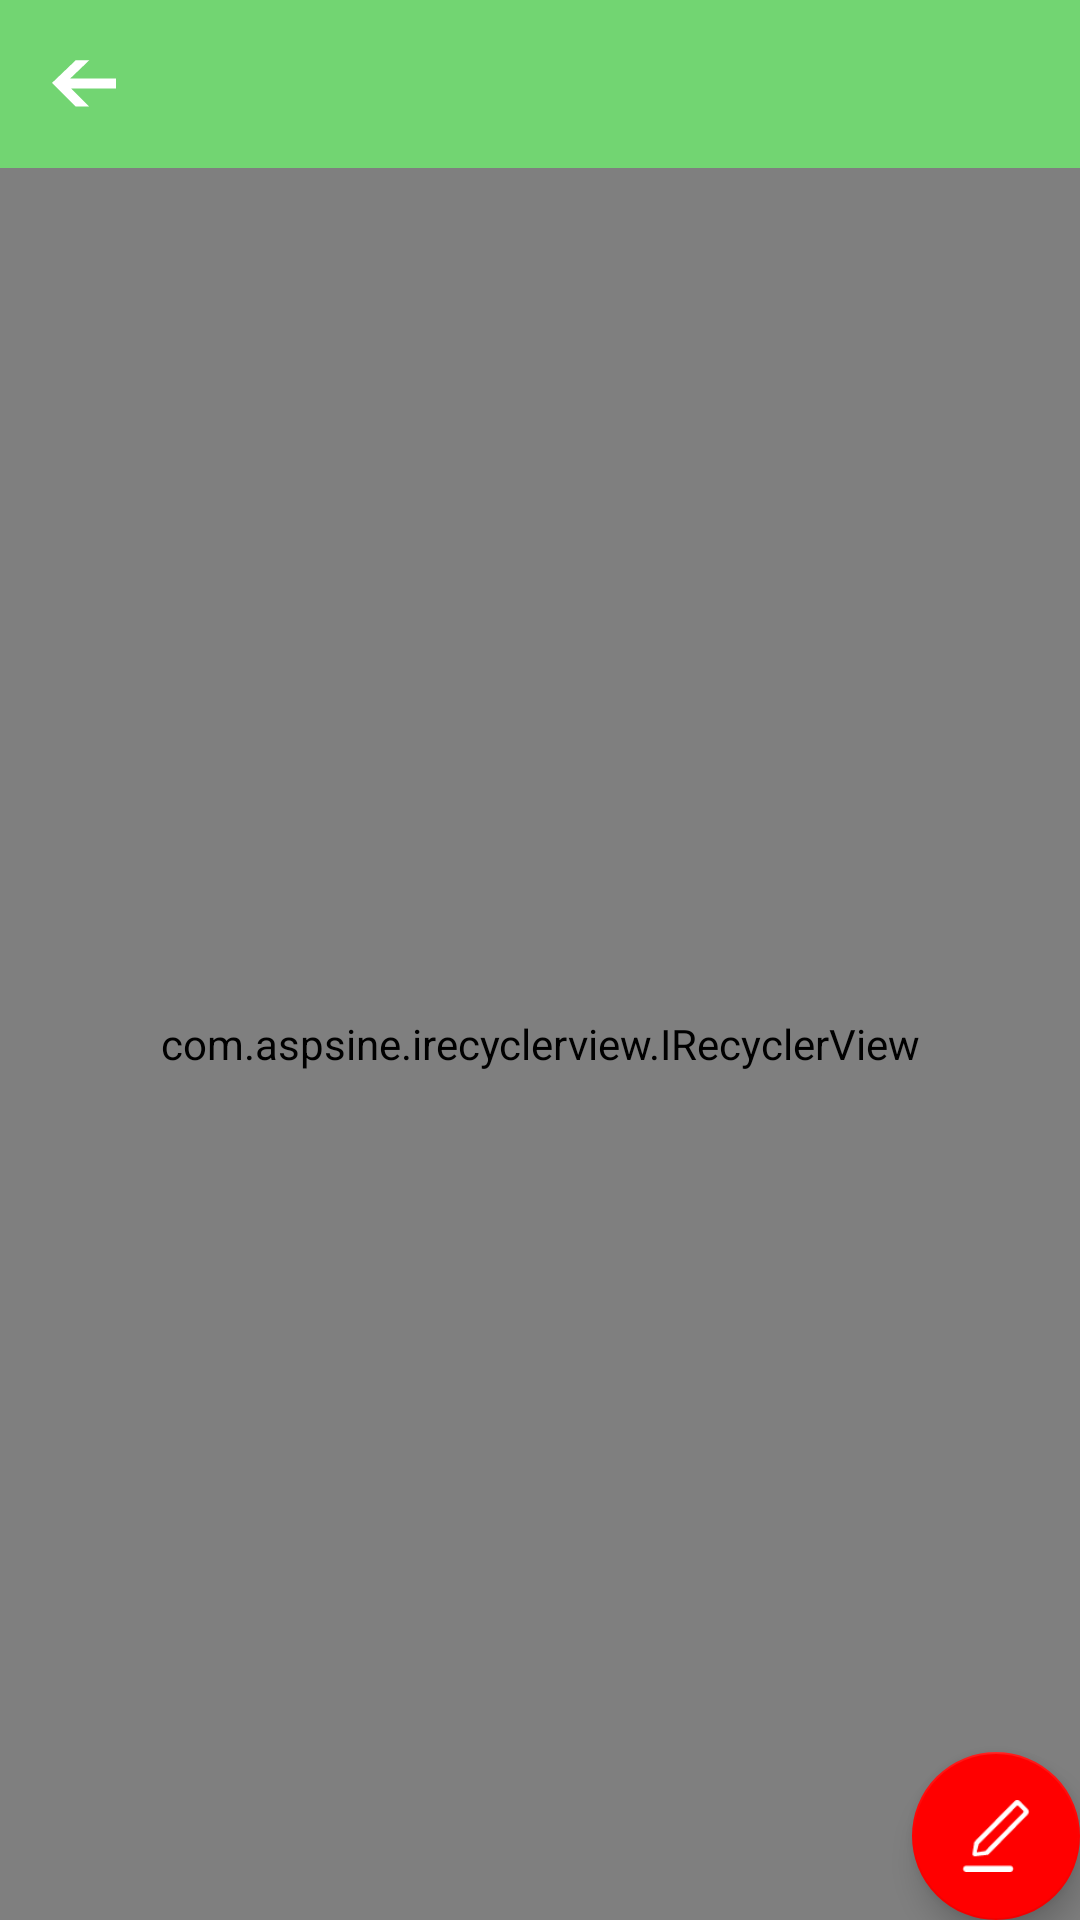

Icon bounding boxes for this 1080 × 1920 phone screenshot, format (x1, y1, x2, y2):
comment: (912, 1752, 1080, 1920)
